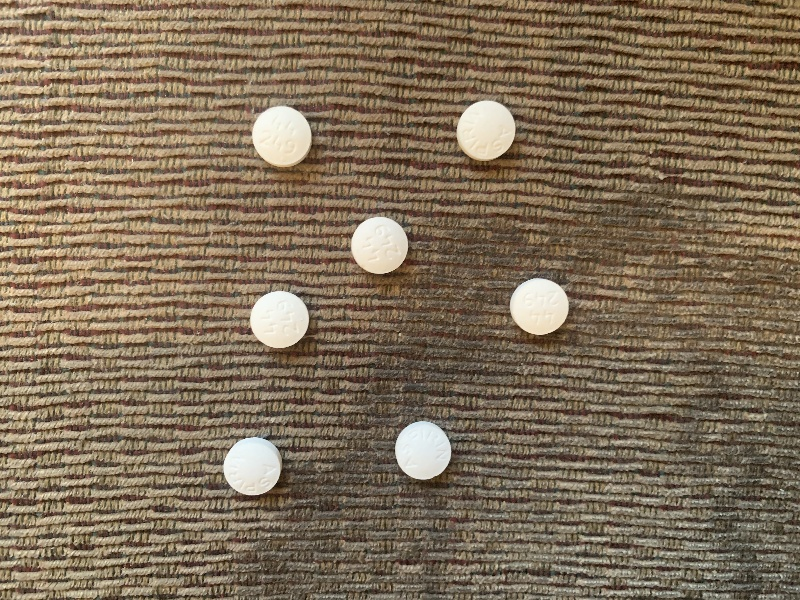Aspirin: (248, 101, 323, 175), (388, 418, 458, 488), (217, 433, 288, 500), (348, 211, 416, 279), (246, 286, 313, 353), (454, 97, 520, 165), (505, 276, 576, 339)
